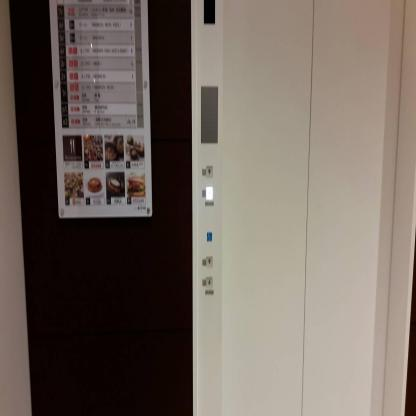CH: (206, 232, 212, 242)
blur: (206, 186, 214, 201)
down: (206, 277, 212, 288)
up: (206, 165, 212, 179), (206, 256, 213, 268)
